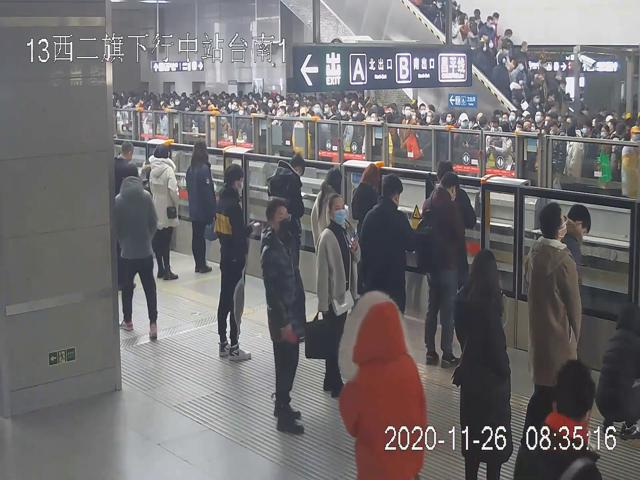person: (454, 248, 514, 480), (260, 199, 306, 435), (524, 202, 583, 384), (316, 195, 358, 399), (359, 174, 415, 326), (422, 170, 464, 366), (117, 164, 159, 341), (218, 164, 253, 360), (185, 139, 217, 273), (150, 145, 179, 281)
